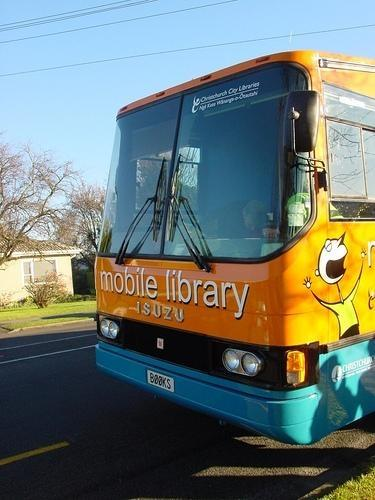bus: (94, 52, 375, 446)
